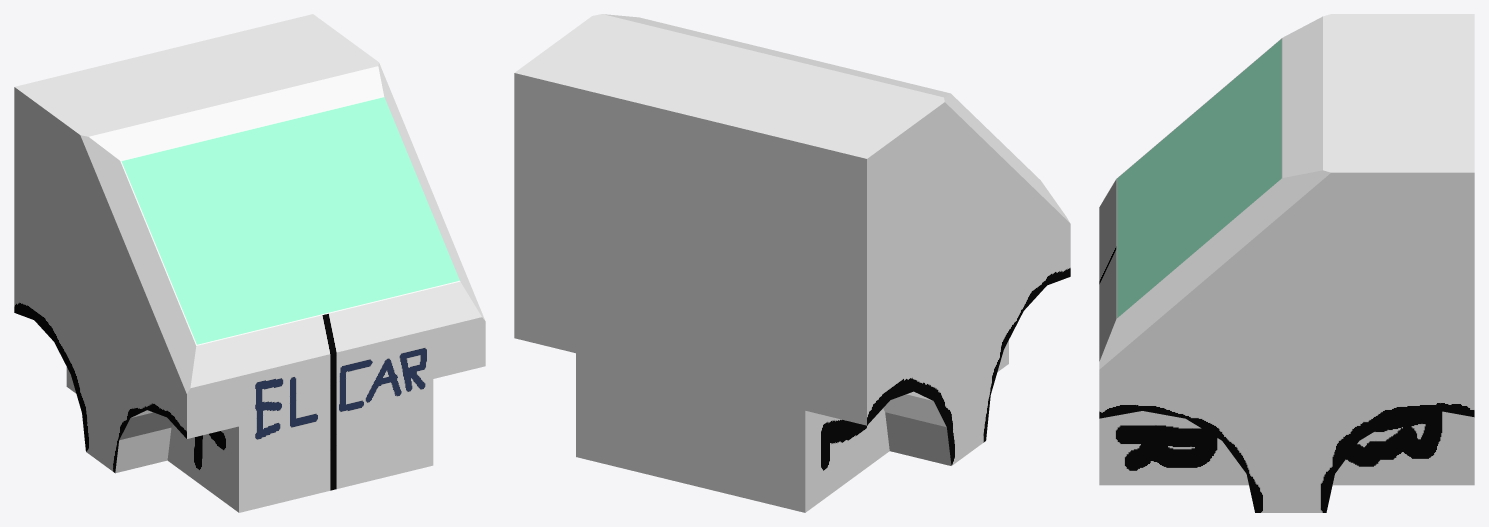
File: el car.obj
3 views of the same model, side by side, from view 1: azimuth 30°, elevation 25°; view 2: azimuth 150°, elevation 25°; view 3: azimuth 270°, elevation 25° (orthographic). The views are drawn at different scales.
Parts seen in each view (by area): view 1: el_car_Cube; view 2: el_car_Cube; view 3: el_car_Cube.
Part boxes in pixels (box(x1,y1,x2,y2)): el_car_Cube: box(14, 14, 485, 512); el_car_Cube: box(514, 14, 1070, 512); el_car_Cube: box(1099, 14, 1474, 512).
Size of the model in its own units: 2 by 2 by 2.
